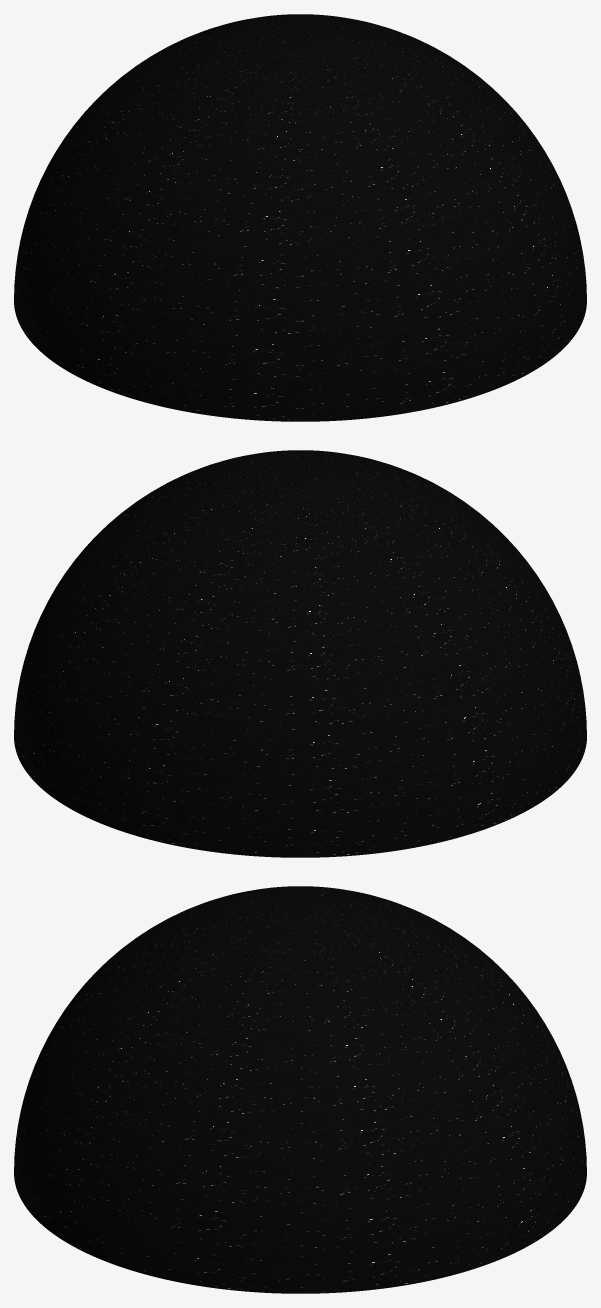
File: SkySphere.fbx
The picture shows the model from 3 angles, top to bottom: view 1: azimuth 30°, elevation 25°; view 2: azimuth 150°, elevation 25°; view 3: azimuth 270°, elevation 25°; orthographic projection.
Visible parts, largest first — view 1: Sphere; view 2: Sphere; view 3: Sphere.
Boxes of the visible parts, left/top/right/bottom form: Sphere: left=14, top=14, right=586, bottom=421; Sphere: left=14, top=450, right=586, bottom=857; Sphere: left=14, top=886, right=586, bottom=1293.
Size of the model in its own units: 40000 by 20000 by 40000.
